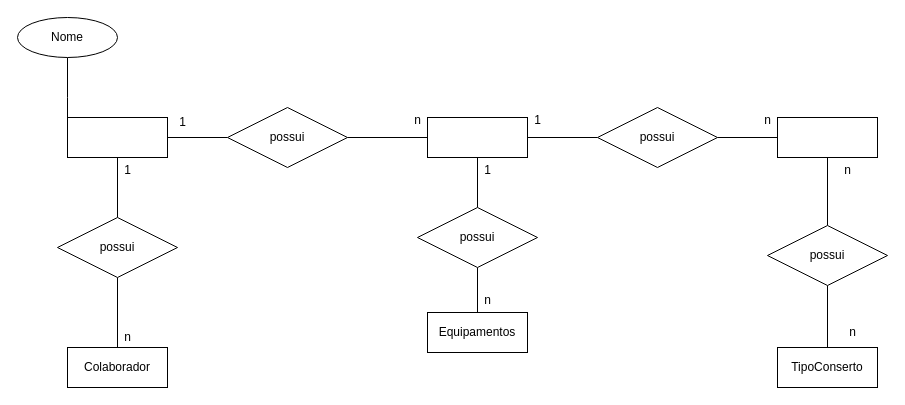
Some shapes in this 905 by 405 pixel diagram are drawn without their labels. Each missing label, with the centre of its shape:
"Cliente" belongs at point 477,137.
"Empresa" belongs at point 117,137.
"Histórico" belongs at point 827,137.
